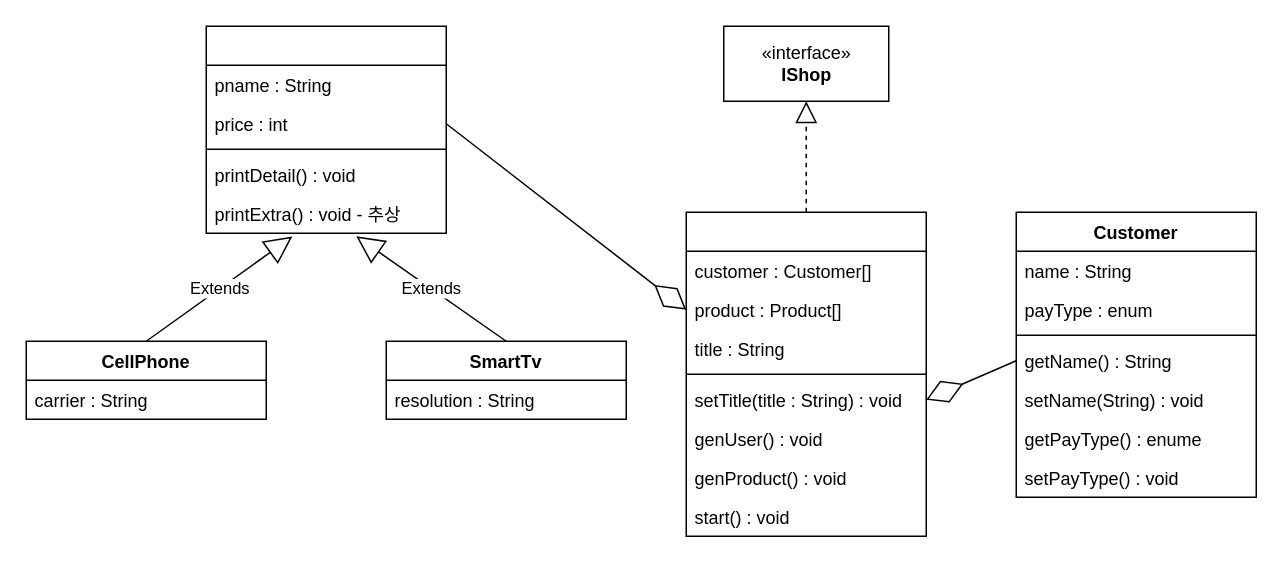
Some shapes in this 1283 by 567 pixel diagram are drawn without their labels. Here are the shapes that lost their labels. From the top down, the box of each, then its label:
(205, 25, 446, 233): Product
(685, 211, 926, 536): MyShop
